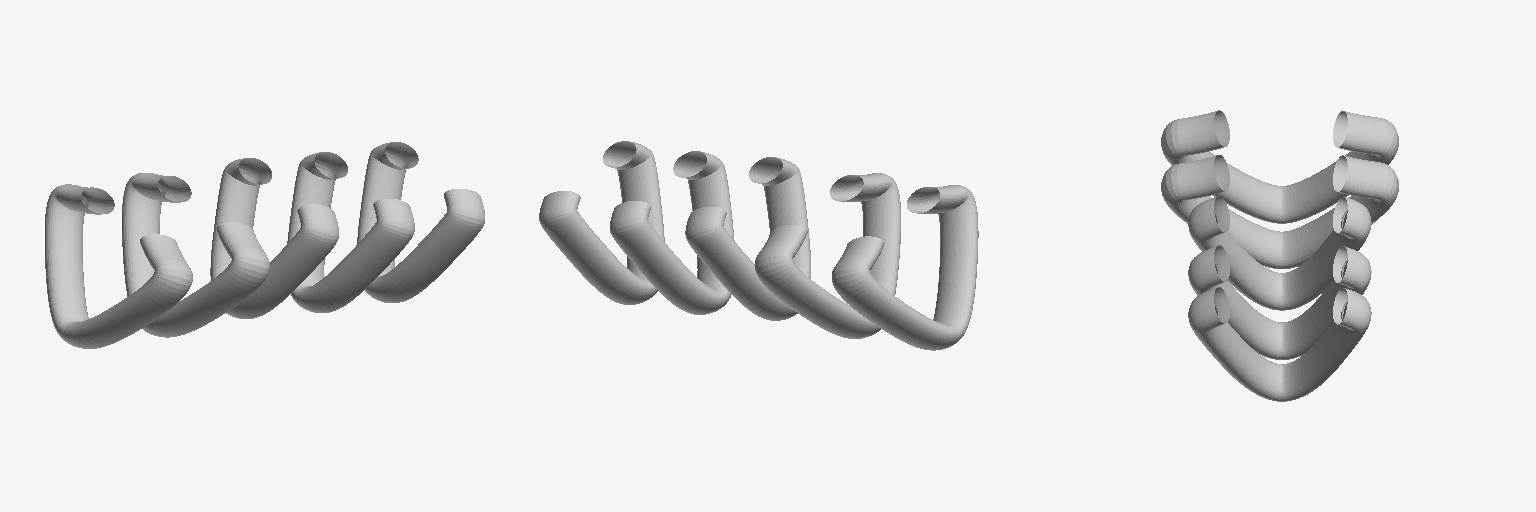
Rendered from NEON2.obj.
3 renders of one model, left to right at view 1: azimuth 30°, elevation 25°; view 2: azimuth 150°, elevation 25°; view 3: azimuth 270°, elevation 25°, orthographic.
Parts seen in each view (by area): view 1: NurbsPath.003_CUNurbsPath.004; view 2: NurbsPath.003_CUNurbsPath.004; view 3: NurbsPath.003_CUNurbsPath.004.
Part boxes in pixels (left/top/right/bottom): NurbsPath.003_CUNurbsPath.004: left=45, top=142, right=484, bottom=348; NurbsPath.003_CUNurbsPath.004: left=539, top=141, right=978, bottom=350; NurbsPath.003_CUNurbsPath.004: left=1161, top=110, right=1398, bottom=401.
Bounding box in the file's own units: 0.5759 × 0.2205 × 0.3046.